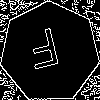F: (25, 27, 64, 79)
